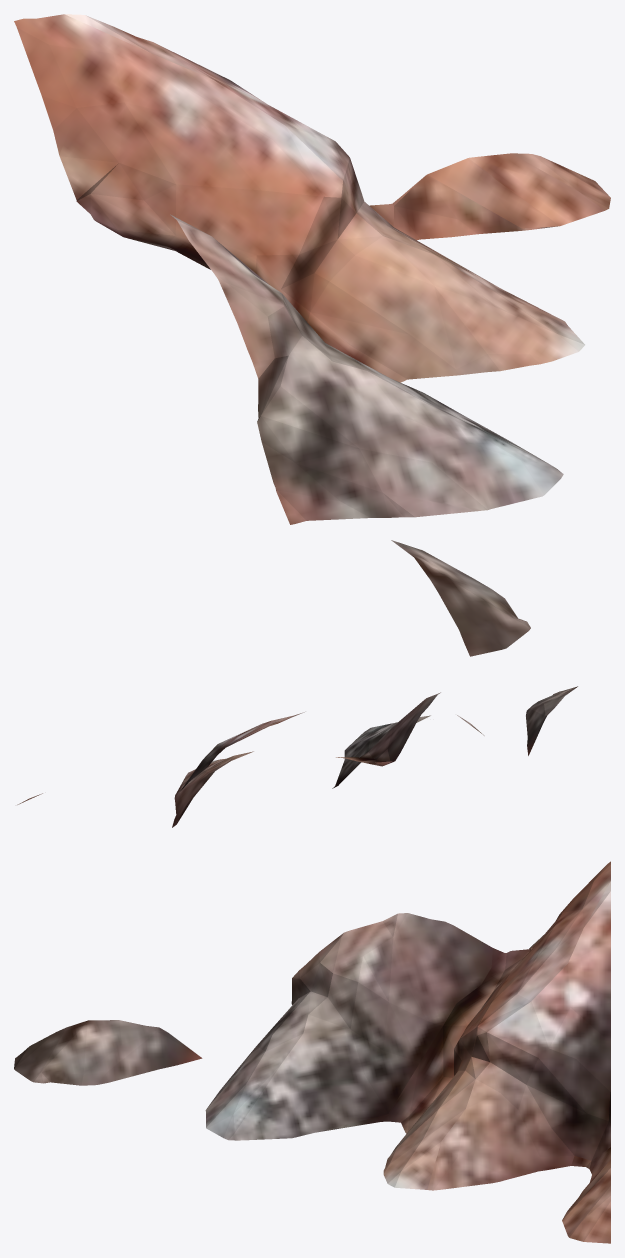
3 renders of one model, top to bottom at view 1: azimuth 30°, elevation 25°; view 2: azimuth 150°, elevation 25°; view 3: azimuth 270°, elevation 25°, orthographic. The views are drawn at different scales.
Size of the model in its own units: 0.4097 by 0.2033 by 0.558.
Materials: 1 (1 with a texture image).
